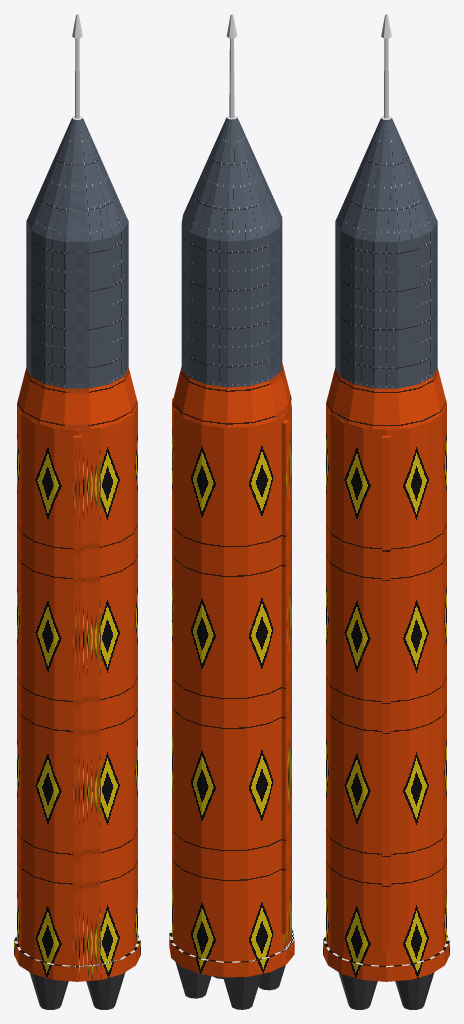
The model's file is sputnik_heavy.glb.
3 views of the same model, side by side, from view 1: azimuth 90°, elevation 25°; view 2: azimuth 150°, elevation 25°; view 3: azimuth 270°, elevation 25° (orthographic).
Visible parts, largest first — view 1: sputnik_heavy; view 2: sputnik_heavy; view 3: sputnik_heavy.
Part boxes in pixels (x1,y1,x2,y2): sputnik_heavy: (14, 14, 140, 1009); sputnik_heavy: (169, 14, 294, 1009); sputnik_heavy: (323, 14, 449, 1009).
Bounding box in the file's own units: 0.96 × 8.02 × 0.94.
Materials: 5 (3 with a texture image).
